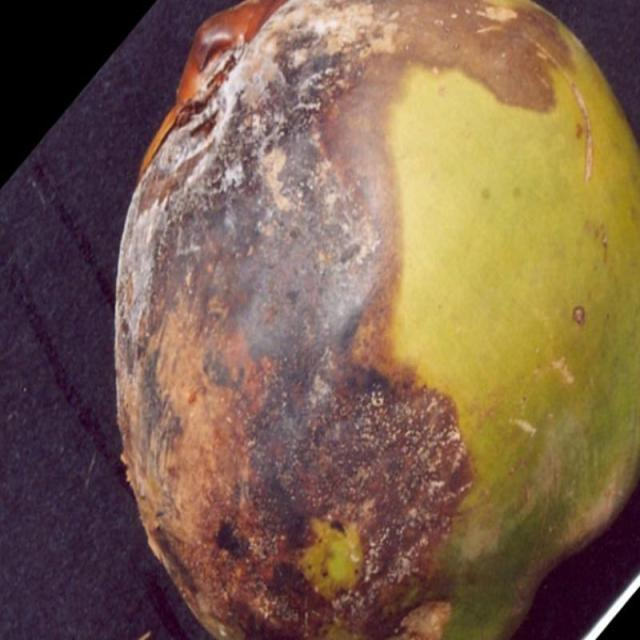damaged: (116, 0, 639, 639)
